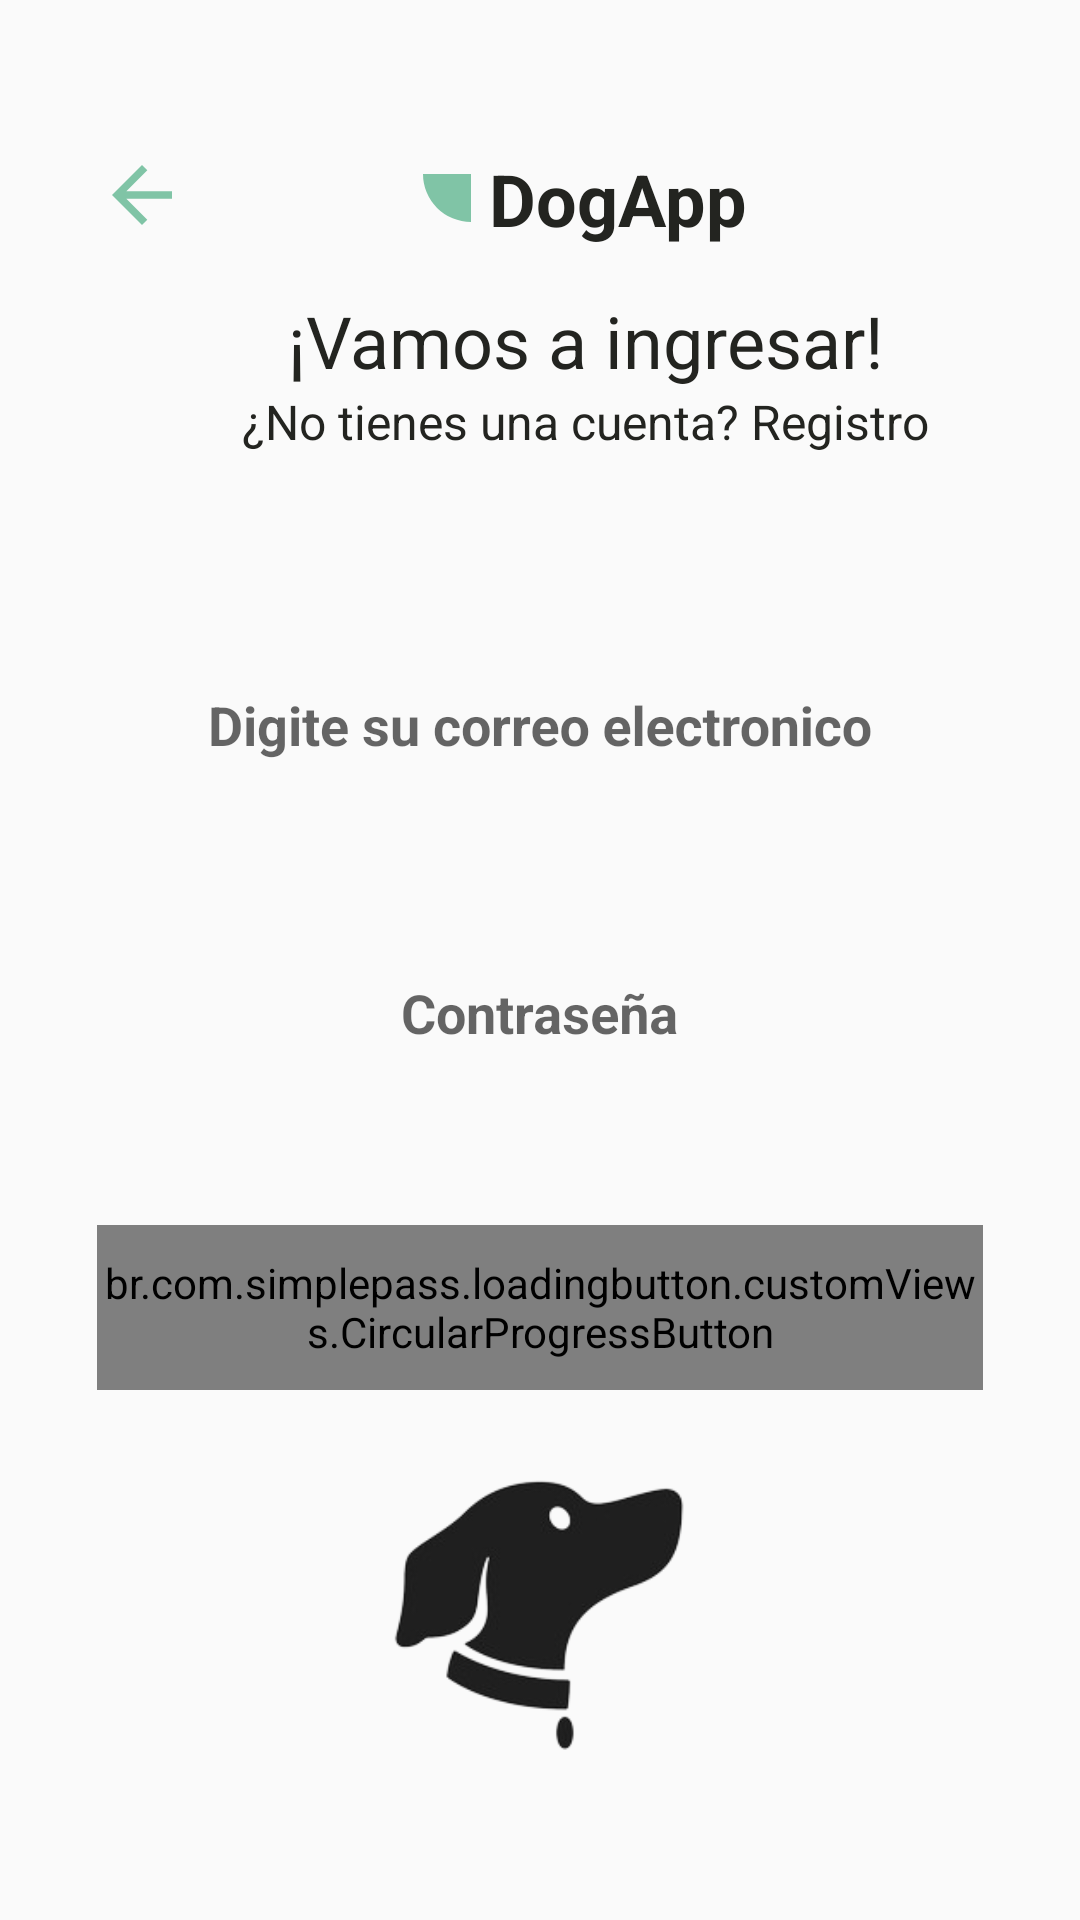

Icon bounding boxes for this 1080px x 1920px phone screenshot, format BBox(x1, y1, x2, y2):
Imagen para el back: BBox(112, 165, 172, 225)
